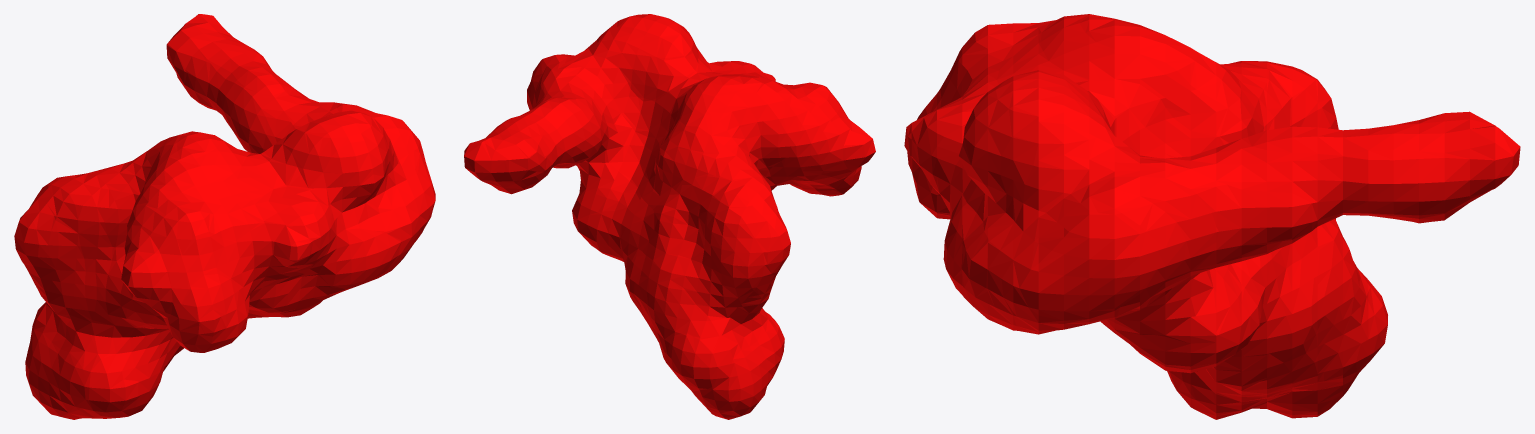
The model's file is cysW_coarse.dae.
3 renders of one model, left to right at view 1: azimuth 30°, elevation 25°; view 2: azimuth 150°, elevation 25°; view 3: azimuth 270°, elevation 25°, orthographic. The views are drawn at different scales.
Visible parts, largest first — view 1: cysW; view 2: cysW; view 3: cysW.
Part boxes in pixels (x1,y1,x2,y2): cysW: (14, 14, 435, 419); cysW: (464, 14, 875, 419); cysW: (904, 14, 1520, 419).
Size of the model in its own units: 61.81 by 56.16 by 68.61.
